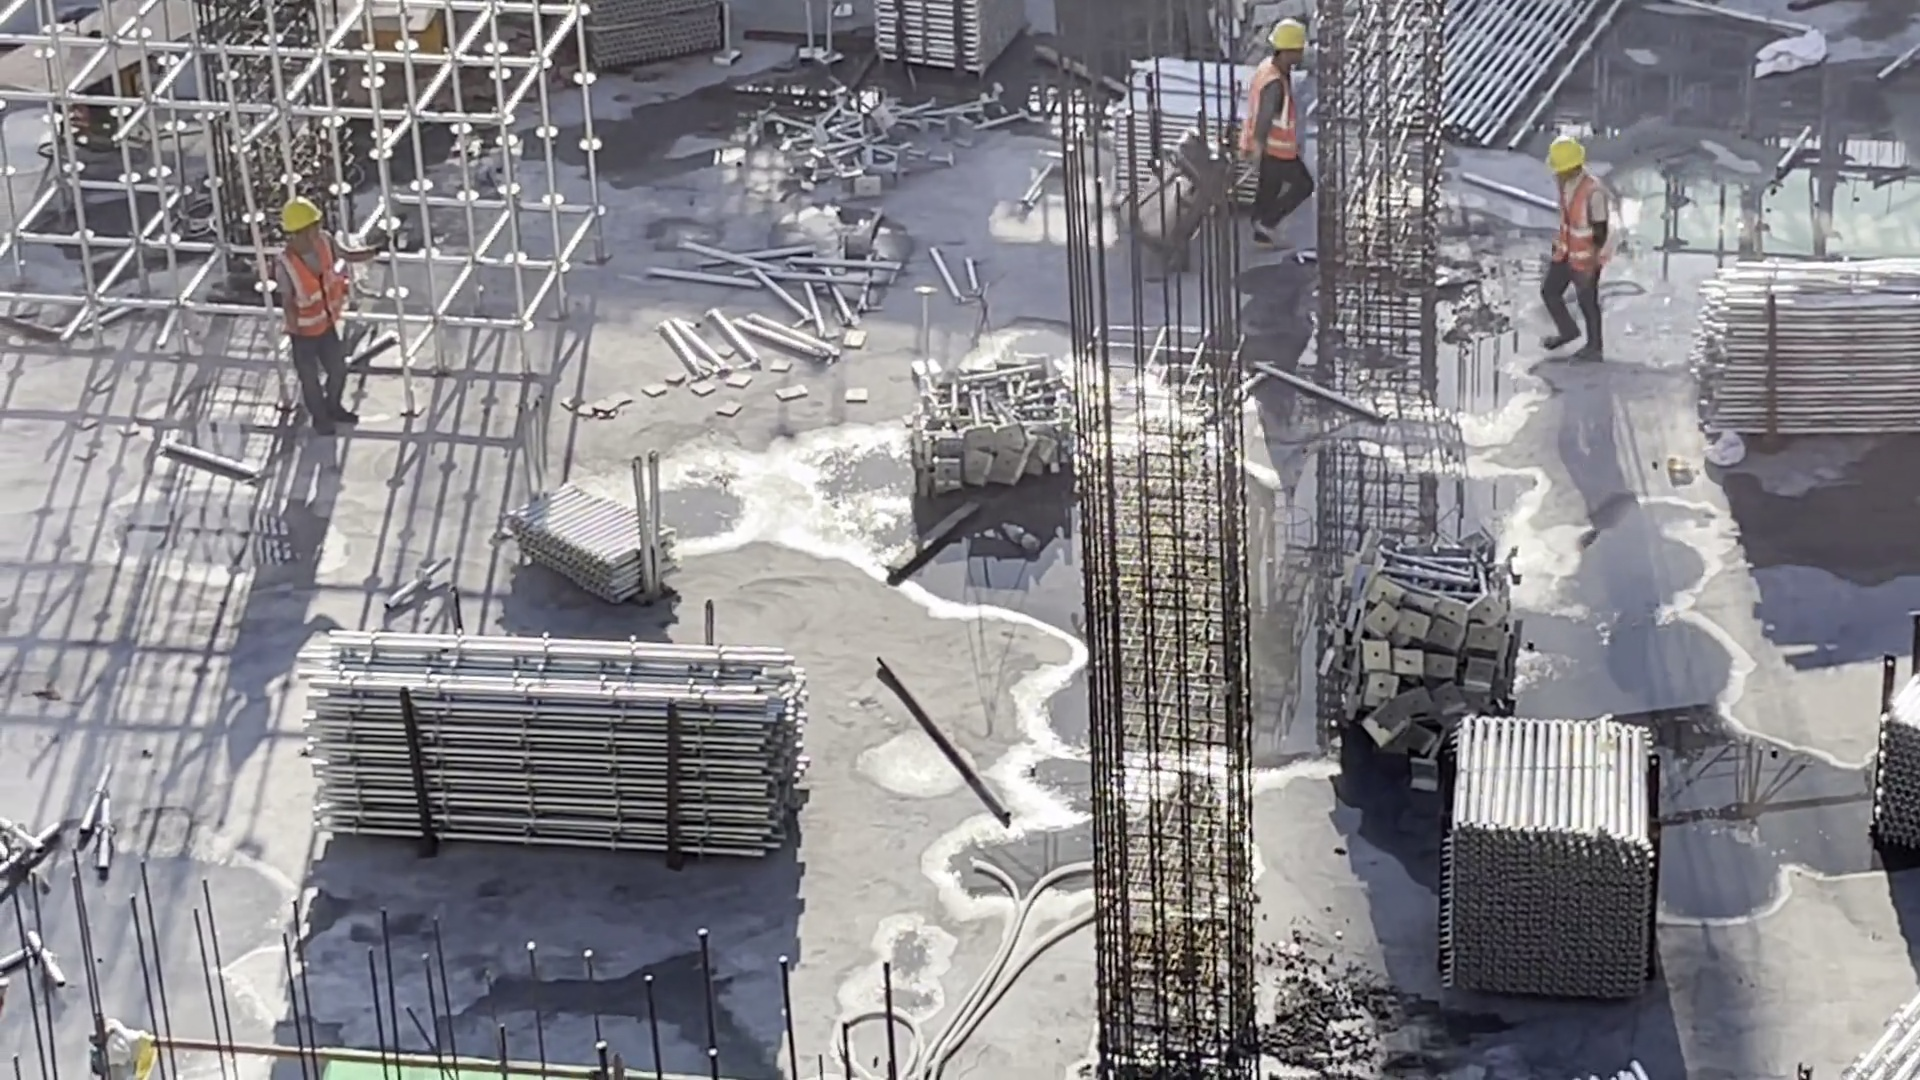cutter: (10, 11, 233, 172), (308, 1, 470, 74)
helmet: (277, 189, 334, 231), (1260, 16, 1318, 48), (1547, 135, 1588, 171)
person: (260, 201, 367, 434), (1238, 11, 1317, 250), (1537, 132, 1607, 376)
scaffold: (286, 614, 791, 876), (1438, 712, 1680, 1012), (1321, 537, 1525, 789), (1677, 250, 1919, 460), (1353, 7, 1644, 147), (1100, 52, 1316, 226), (510, 465, 691, 614), (910, 356, 1078, 492), (567, 1, 740, 85), (1852, 655, 1920, 853), (871, 1, 1020, 88), (802, 109, 919, 193), (1828, 979, 1915, 1080)
vest: (285, 241, 346, 344), (1247, 49, 1294, 164), (1555, 181, 1600, 277)
